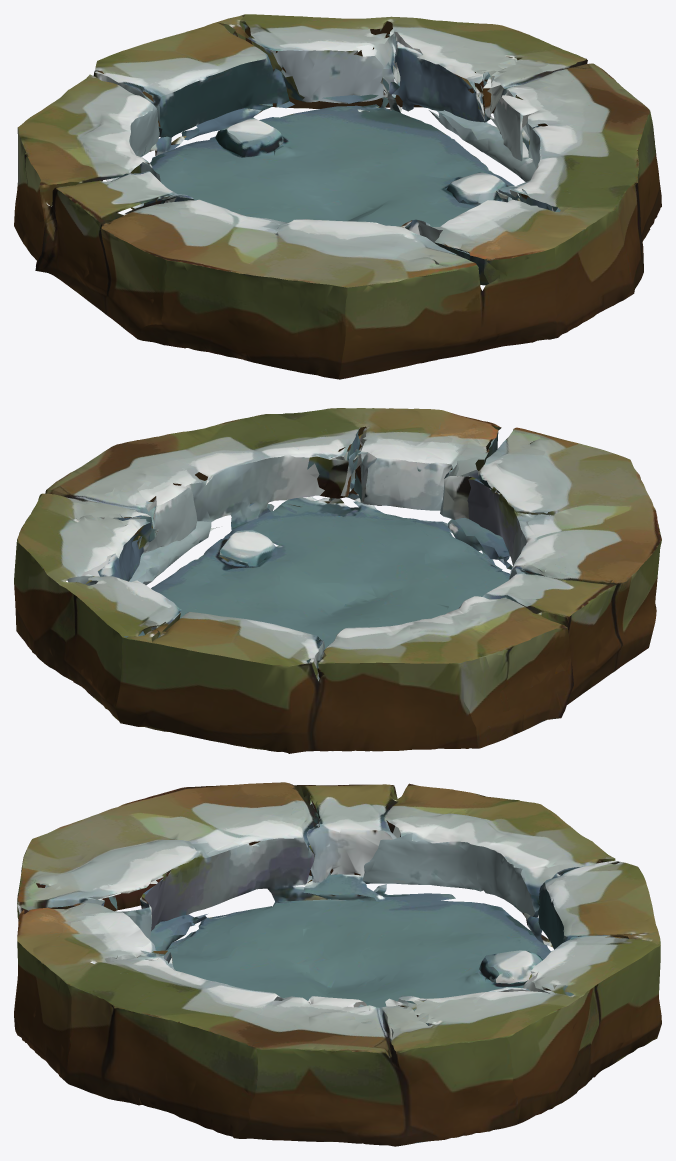
File: ice_fishing_hole.glb
3 renders of one model, top to bottom at view 1: azimuth 30°, elevation 25°; view 2: azimuth 150°, elevation 25°; view 3: azimuth 270°, elevation 25°, orthographic. The views are drawn at different scales.
Parts seen in each view (by area): view 1: ice_fishing_hole; view 2: ice_fishing_hole; view 3: ice_fishing_hole.
Boxes of the visible parts, left/top/right/bottom form: ice_fishing_hole: left=14, top=14, right=661, bottom=379; ice_fishing_hole: left=14, top=408, right=661, bottom=753; ice_fishing_hole: left=14, top=782, right=661, bottom=1146.
Size of the model in its own units: 1.6 by 0.2691 by 1.6.
1 material, 1 textured.
